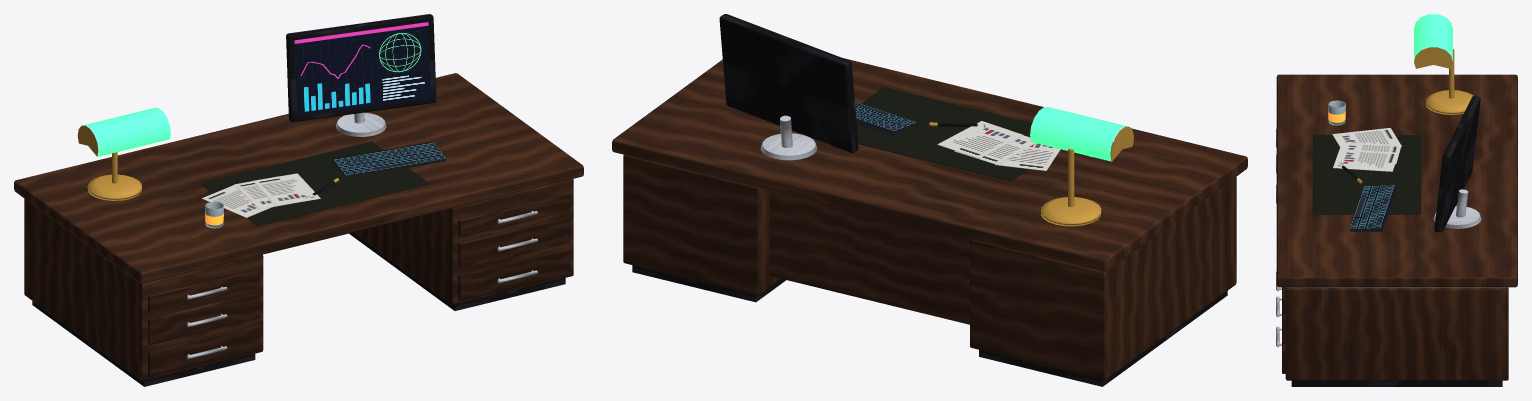
The model's file is prop_executiveDesk.glb.
3 renders of one model, left to right at view 1: azimuth 30°, elevation 25°; view 2: azimuth 150°, elevation 25°; view 3: azimuth 270°, elevation 25°, orthographic. The views are drawn at different scales.
Parts seen in each view (by area): view 1: prop; view 2: prop; view 3: prop.
Part boxes in pixels (x1,y1,x2,y2): prop: (14, 14, 583, 386); prop: (612, 14, 1247, 386); prop: (1276, 14, 1517, 386).
Bounding box in the file's own units: 1.6 × 0.7649 × 0.802.
13 materials, 8 textured.
